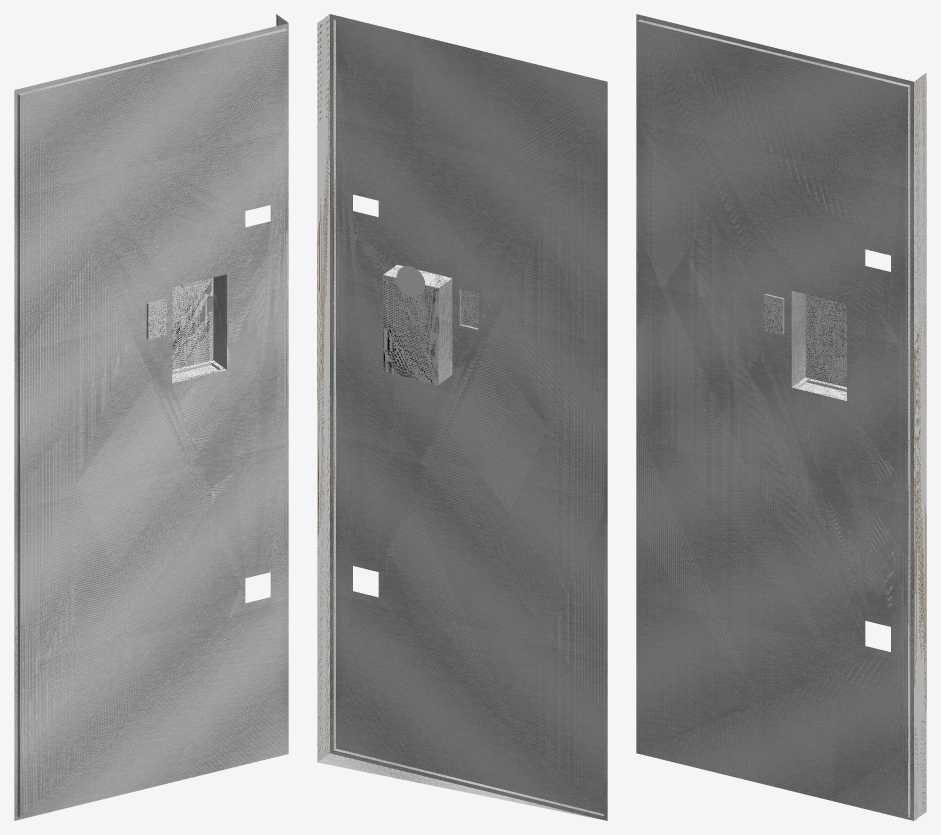
3 views of the same model, side by side, from view 1: azimuth 30°, elevation 25°; view 2: azimuth 150°, elevation 25°; view 3: azimuth 330°, elevation 25° (orthographic).
Bounding box in the file's own units: 0.6887 × 1.75 × 0.0704.
